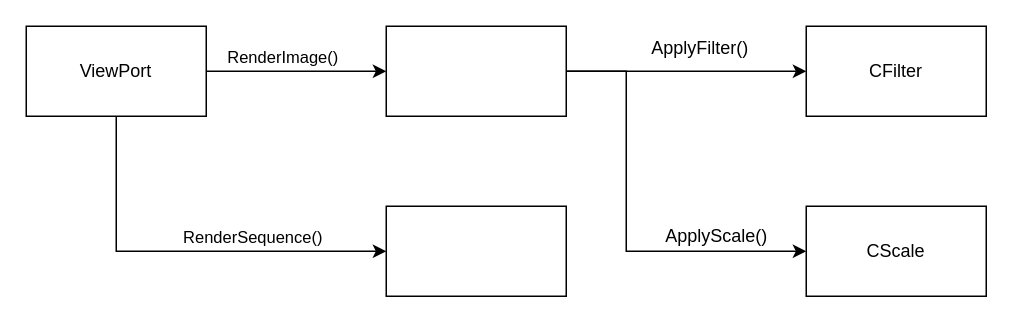
This 1013x323 diagram has some shape labels left out. The shapes that lost their labels are listed below. From the top down, each one's box as (x1, y1, x2, y2) in pixels, then its label:
(385, 25, 566, 116): CImage
(385, 205, 566, 296): CSequence
